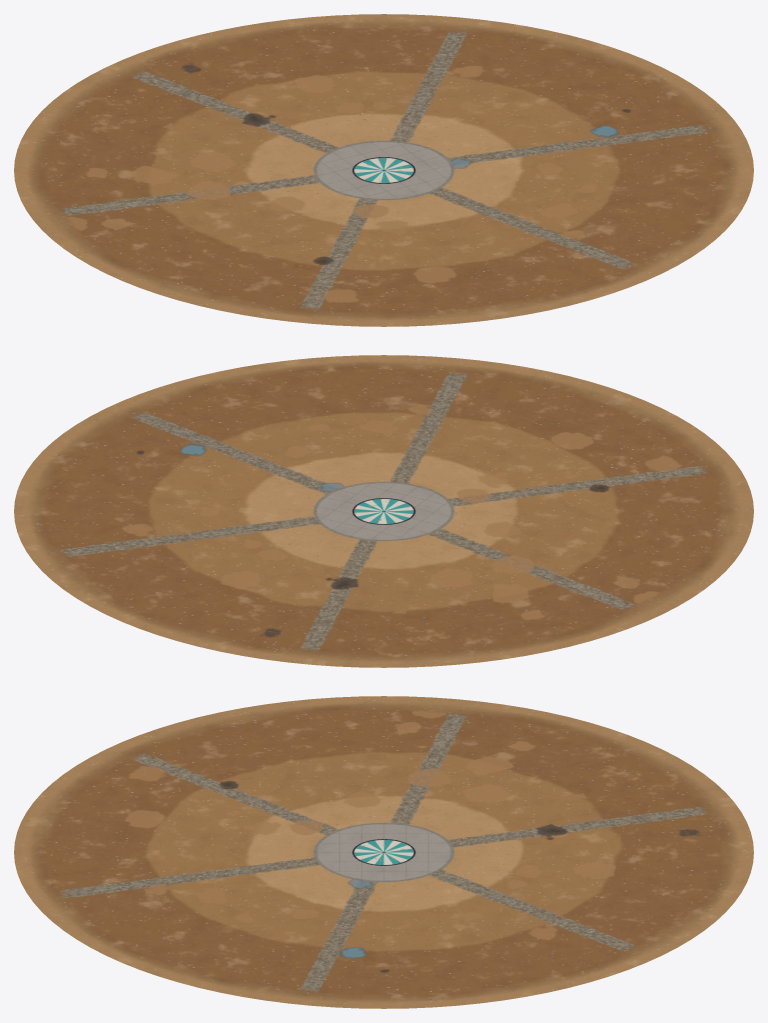
The model's file is yard_ground.glb.
3 views of the same model, one above another, from view 1: azimuth 30°, elevation 25°; view 2: azimuth 150°, elevation 25°; view 3: azimuth 270°, elevation 25° (orthographic).
Parts seen in each view (by area): view 1: ground; view 2: ground; view 3: ground.
Part boxes in pixels (x1,y1,x2,y2): ground: (14, 14, 753, 326); ground: (14, 355, 753, 667); ground: (14, 696, 753, 1008).
Size of the model in its own units: 60 by 4.53e-06 by 60.
Materials: 1 (1 with a texture image).
